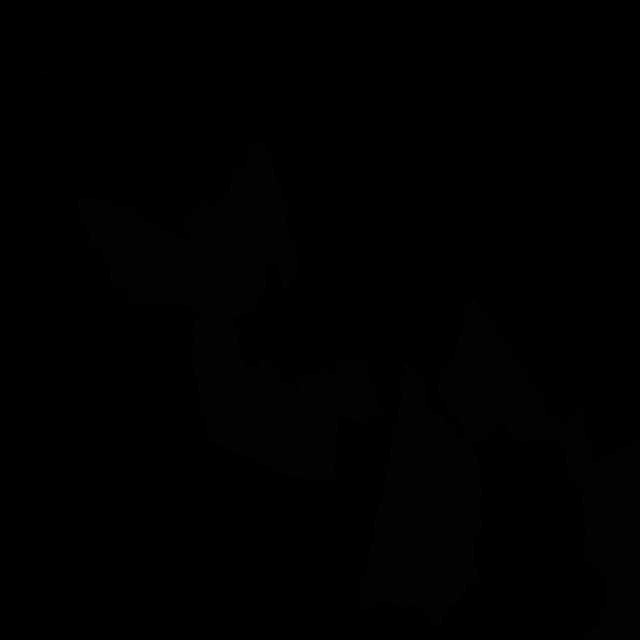cardboard: (185, 138, 382, 481), (358, 361, 484, 627), (436, 299, 565, 459), (560, 409, 640, 640), (77, 193, 214, 317)
rigid_plastic: (0, 0, 95, 79)
